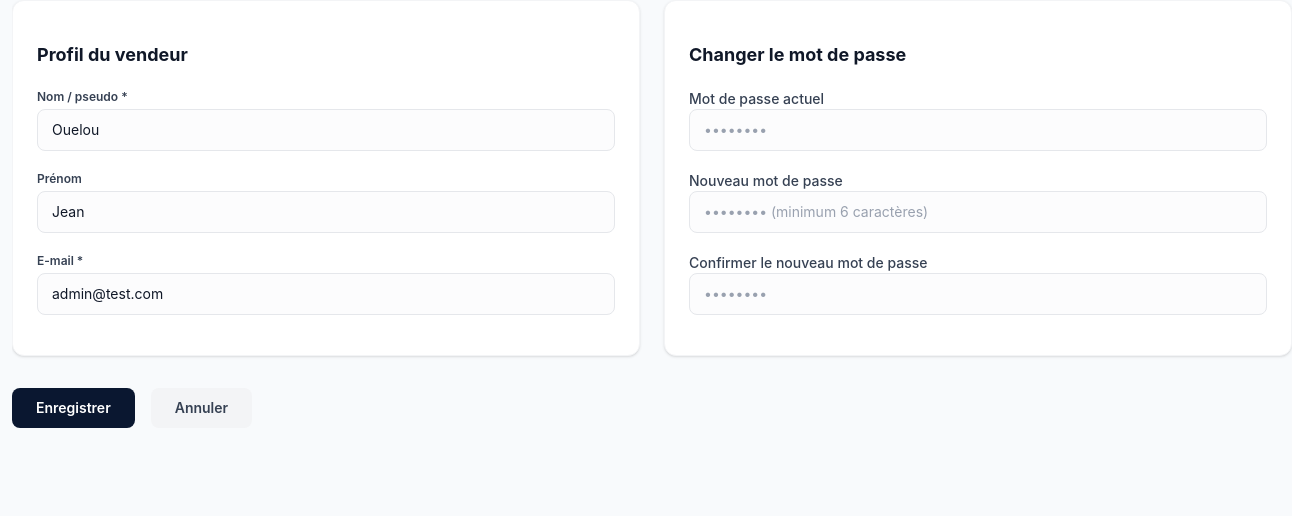
Test case: AdminProfileForm — modifications texte › affiche une erreur si aucune modification
Click the button "Enregistrer": coordinates (73, 408) [12, 388, 135, 428]
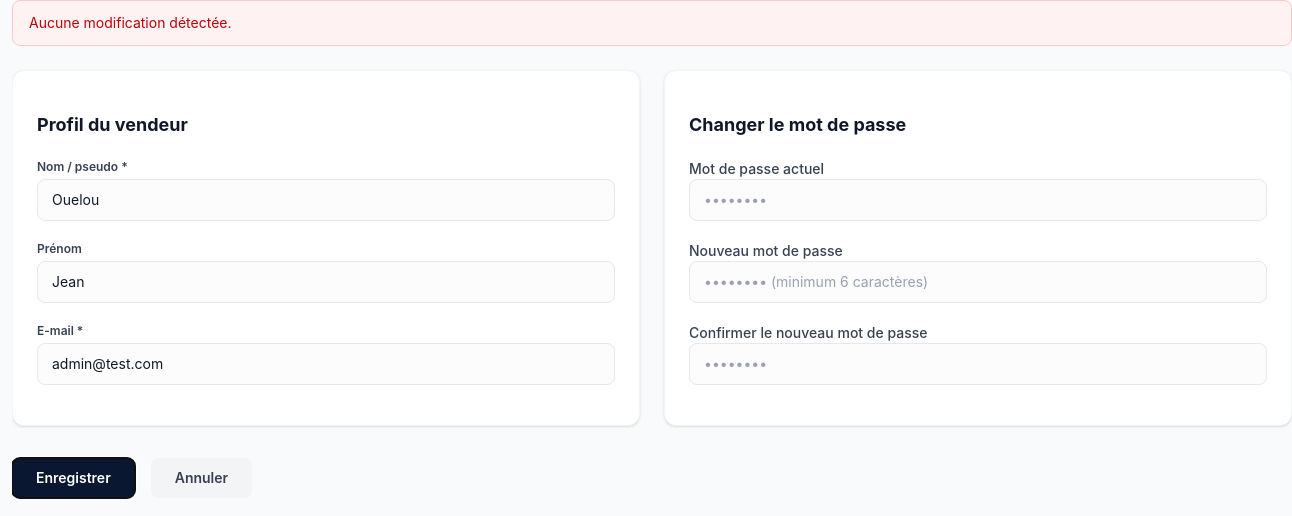
expect the message shows "Aucune modification": met, box [29, 14, 232, 31]
